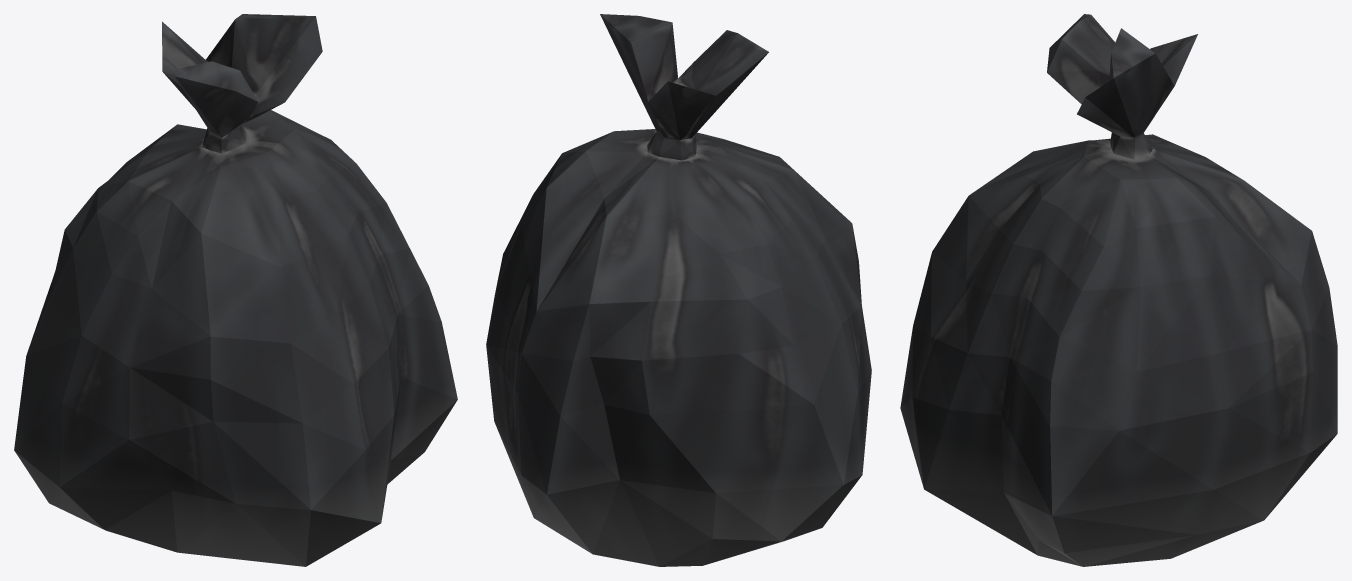
Rendered from P_GarbageBag_001_S1_M04.obj.
3 renders of one model, left to right at view 1: azimuth 30°, elevation 25°; view 2: azimuth 150°, elevation 25°; view 3: azimuth 270°, elevation 25°, orthographic.
Bounding box in the file's own units: 0.5628 × 0.6978 × 0.5588.
Materials: 1 (1 with a texture image).
